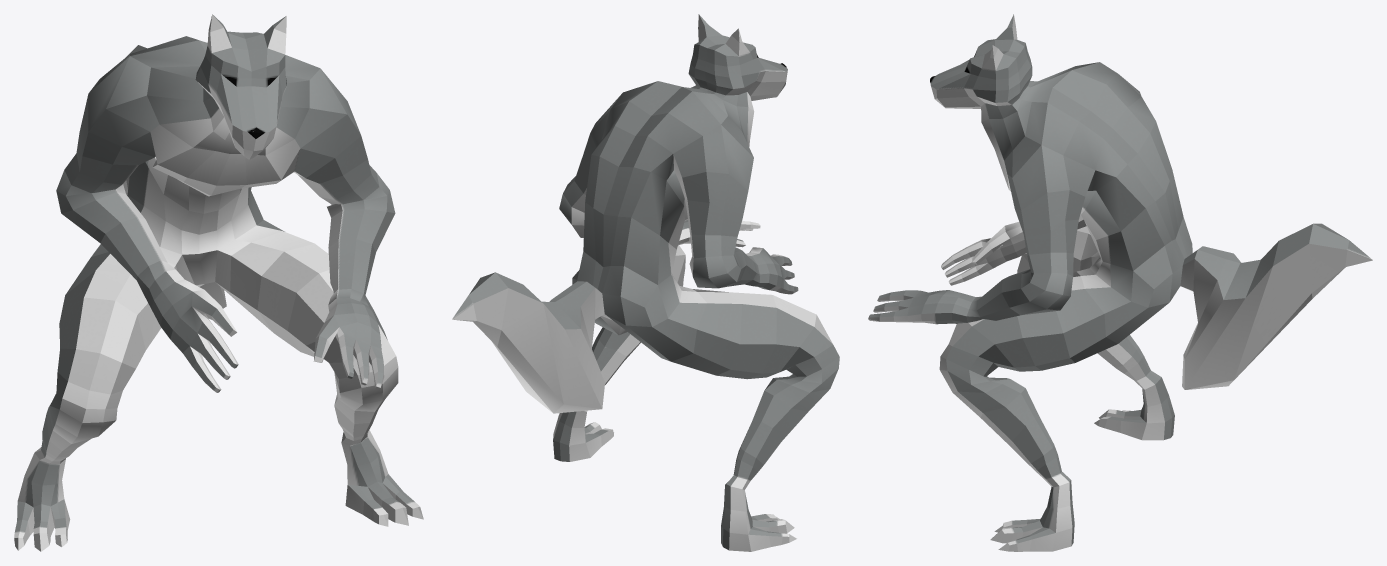
File: WolfAttack(112).obj
3 views of the same model, side by side, from view 1: azimuth 30°, elevation 25°; view 2: azimuth 150°, elevation 25°; view 3: azimuth 270°, elevation 25° (orthographic). The views are drawn at different scales.
Visible parts, largest first — view 1: Box001; view 2: Box001; view 3: Box001.
Boxes of the visible parts, left/top/right/bottom form: Box001: left=14, top=14, right=423, bottom=551; Box001: left=452, top=14, right=839, bottom=551; Box001: left=868, top=14, right=1372, bottom=551.
Bounding box in the file's own units: 77.13 × 118 × 119.
